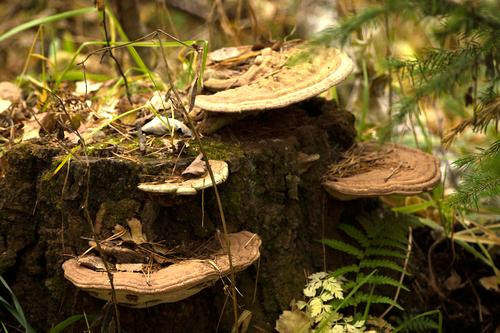Ganoderma - Fruit Body: (64, 227, 261, 301), (201, 39, 358, 112), (319, 138, 447, 200), (140, 154, 229, 195)
